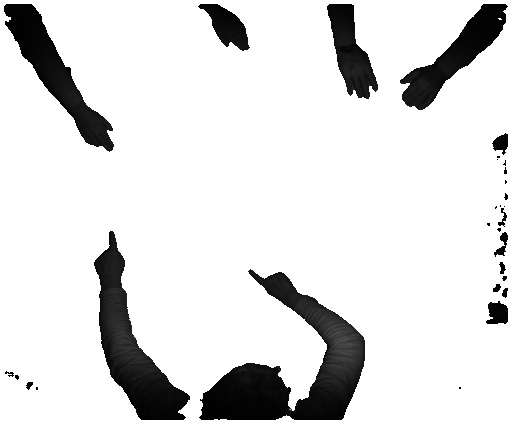hand: (335, 47, 383, 103), (88, 224, 127, 286), (400, 66, 447, 111), (248, 264, 299, 304), (213, 8, 255, 55), (76, 110, 119, 151)
